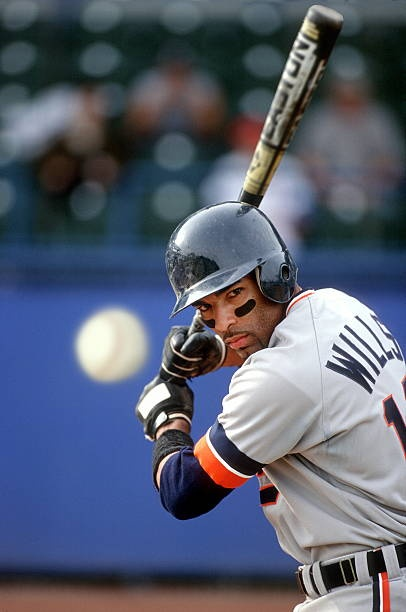bita: (246, 5, 342, 209)
